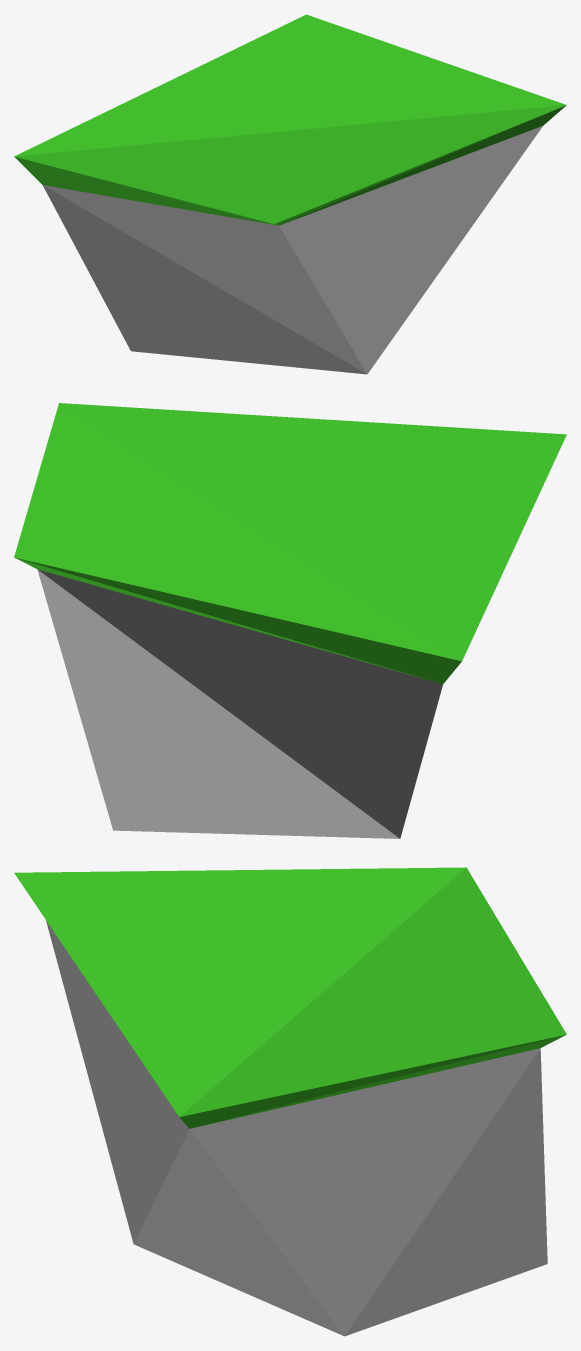
Rendered from grassy_rock2.fbx.
3 views of the same model, one above another, from view 1: azimuth 30°, elevation 25°; view 2: azimuth 150°, elevation 25°; view 3: azimuth 270°, elevation 25° (orthographic). The views are drawn at different scales.
Parts seen in each view (by area): view 1: grassy_rock2; view 2: grassy_rock2; view 3: grassy_rock2.
Part boxes in pixels (x1=…): grassy_rock2: x1=14, y1=14, x2=566, y2=374; grassy_rock2: x1=14, y1=403, x2=566, y2=838; grassy_rock2: x1=14, y1=867, x2=566, y2=1336.
Size of the model in its own units: 0.9881 by 0.4899 by 0.8211.
